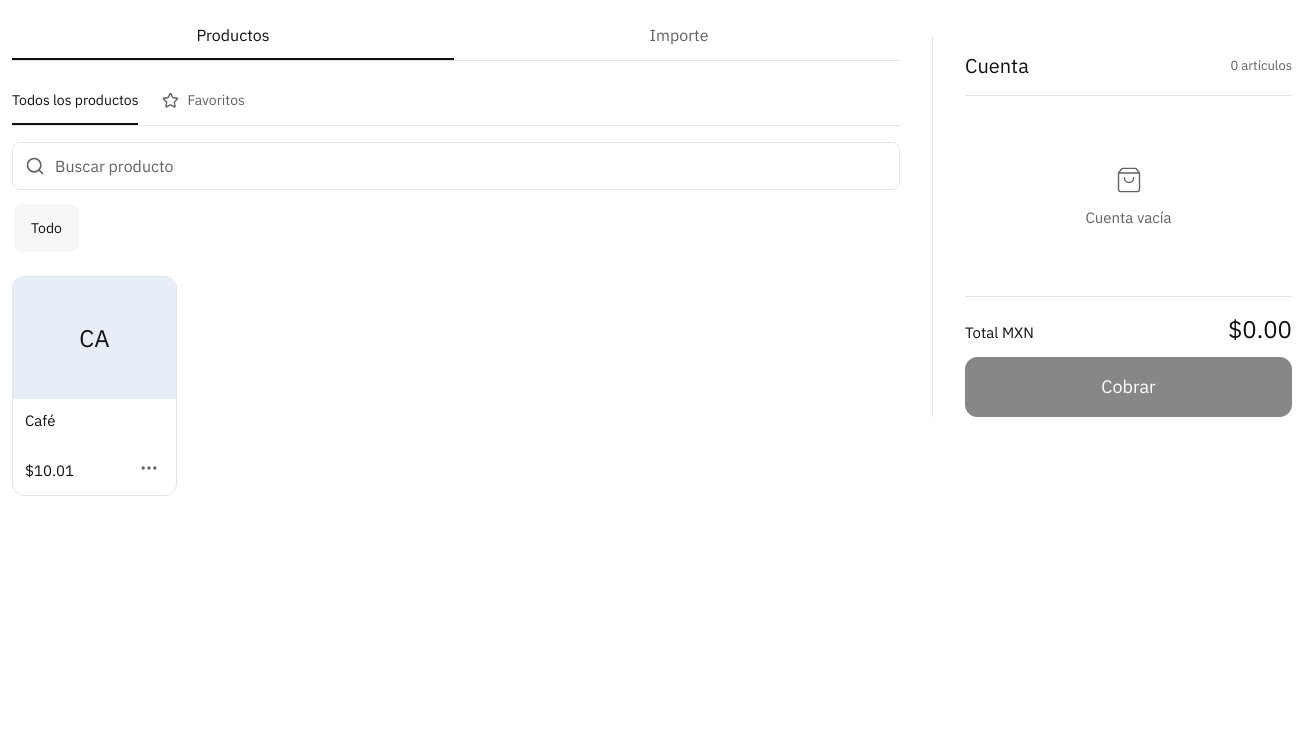
Test: sale entry modes have distinct accessible names and show the selected catalog or calculator
Click the button with aria-label "Importe para la venta": (679, 36) x1=458 y1=12 x2=900 y2=60
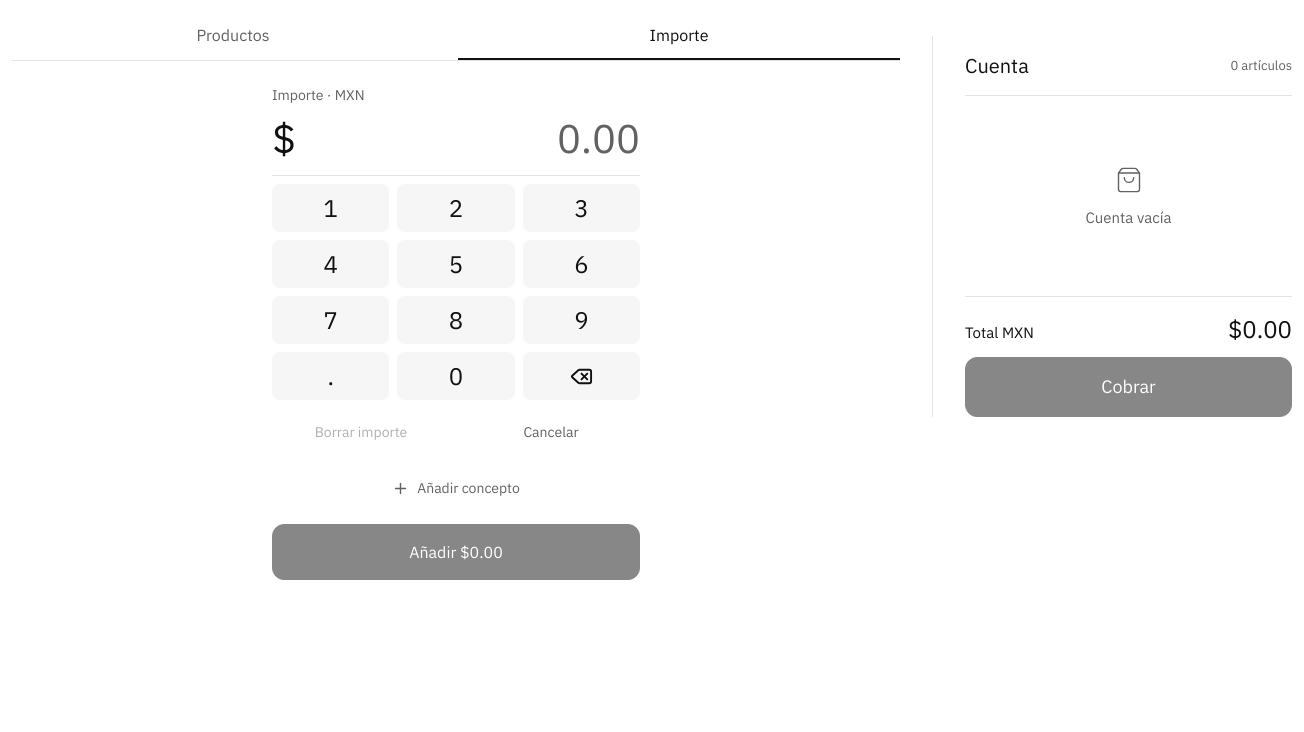
Check: the field labelled "Importe" is shown, box x1=304 y1=113 x2=640 y2=163
Click the button with aria-label "Productos para la venta": (233, 36) x1=12 y1=12 x2=454 y2=60
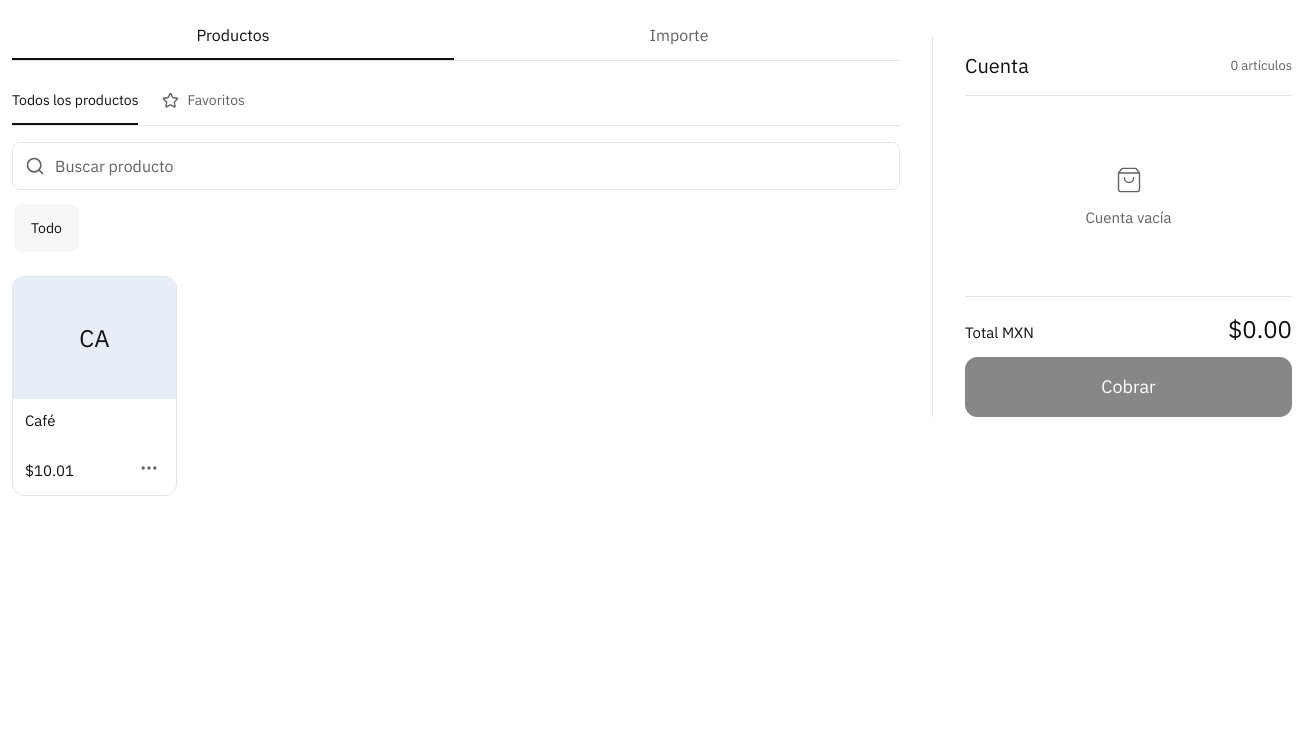
Check: the button with aria-label "Agregar Café, $10.01" is shown, box x1=12 y1=276 x2=177 y2=496
